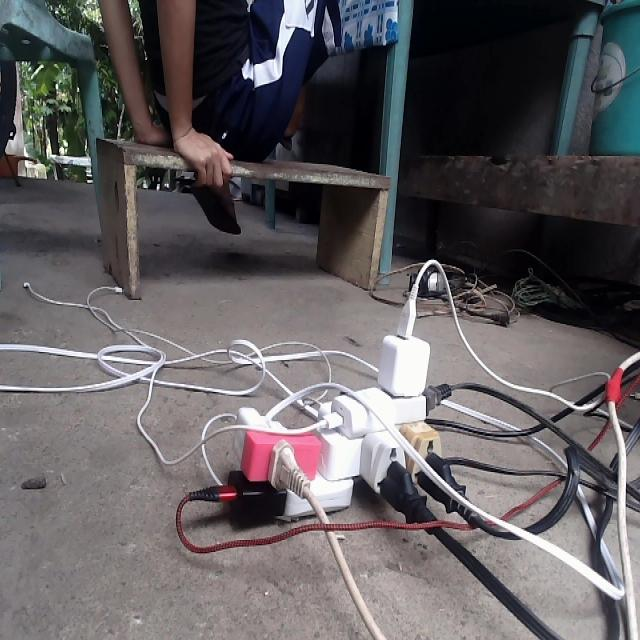-: (196, 280, 484, 528)
